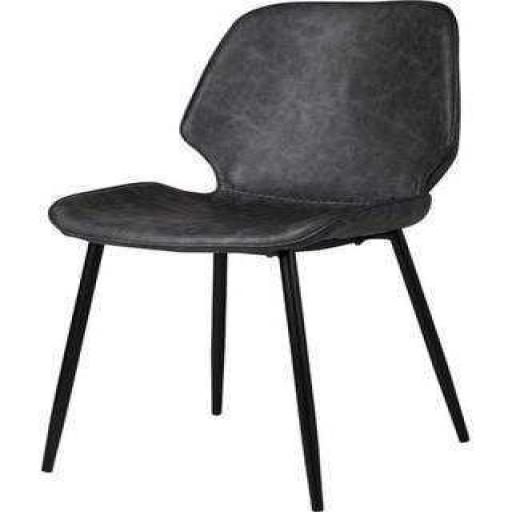chair: (35, 0, 474, 512)
